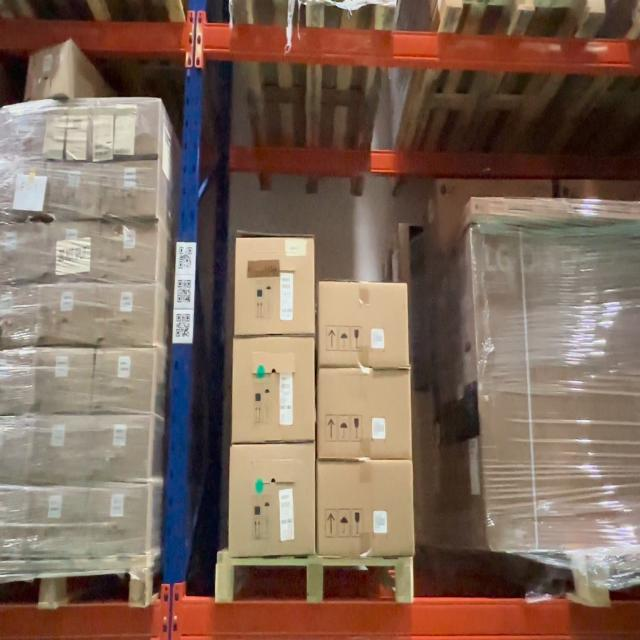box: (231, 447, 314, 554), (318, 460, 412, 552), (318, 370, 411, 457), (234, 340, 314, 440), (320, 281, 408, 367), (237, 238, 314, 334), (89, 488, 148, 556), (93, 414, 149, 484), (94, 99, 160, 158), (35, 415, 90, 484), (32, 487, 84, 557), (96, 348, 151, 411), (40, 284, 97, 344), (98, 285, 154, 346), (38, 348, 91, 412), (47, 220, 101, 282), (101, 222, 157, 280), (103, 160, 157, 215), (49, 162, 100, 220), (24, 40, 70, 100), (49, 100, 92, 156), (436, 179, 554, 199), (473, 198, 573, 216), (560, 181, 640, 198)
